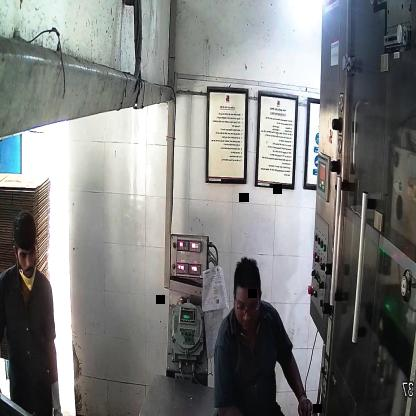goggles: (233, 295, 264, 319)
no_goggles: (16, 245, 40, 265)
